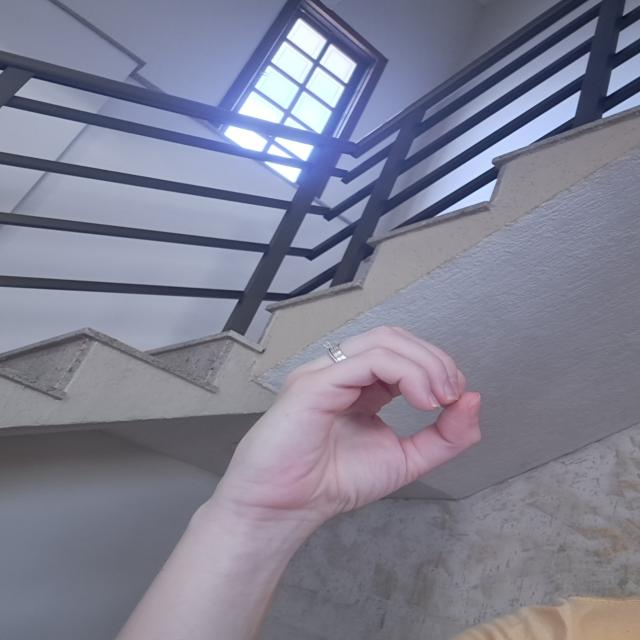O: (228, 310, 487, 531)
